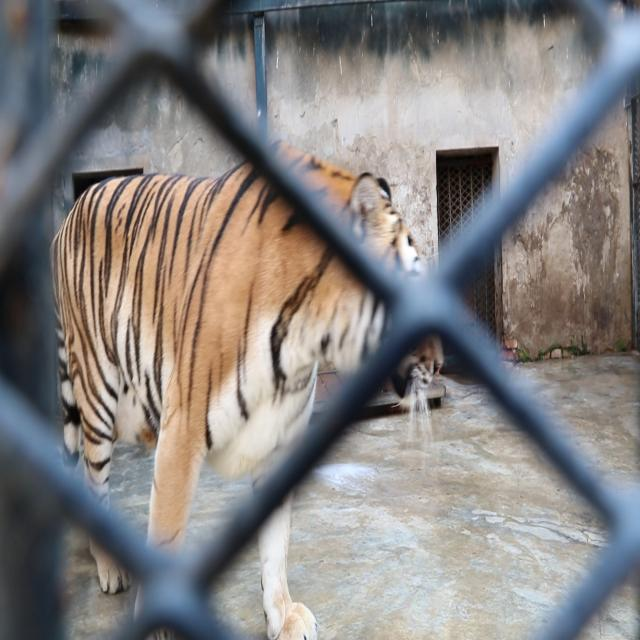Tiger: (48, 110, 457, 640)
